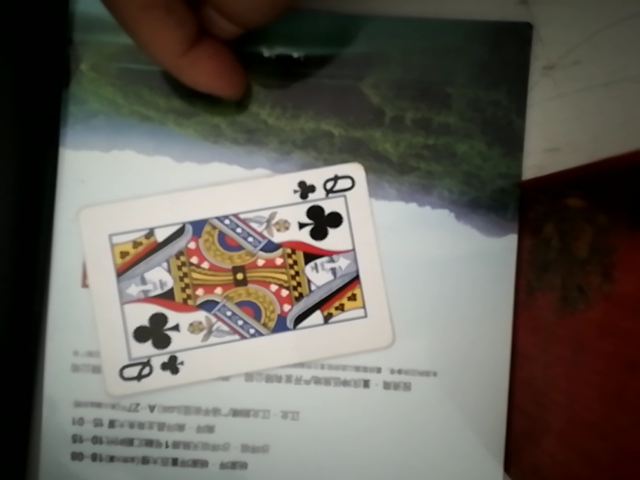mh q: (69, 154, 393, 396)
